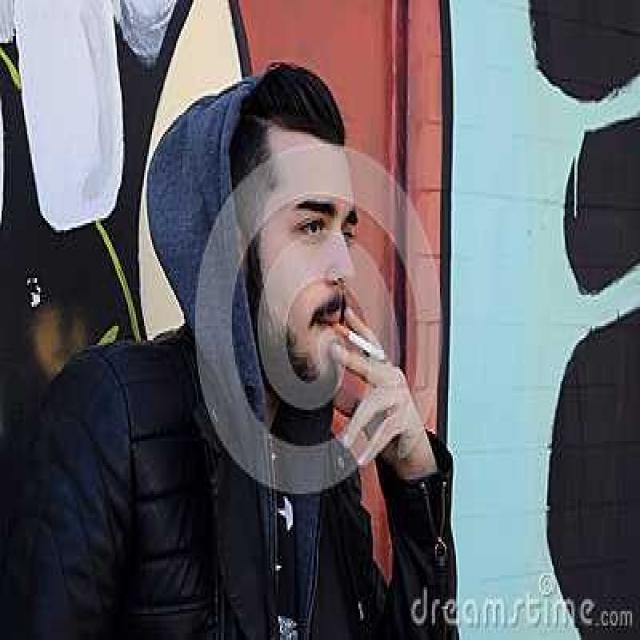Smooking: (330, 309, 390, 365)
